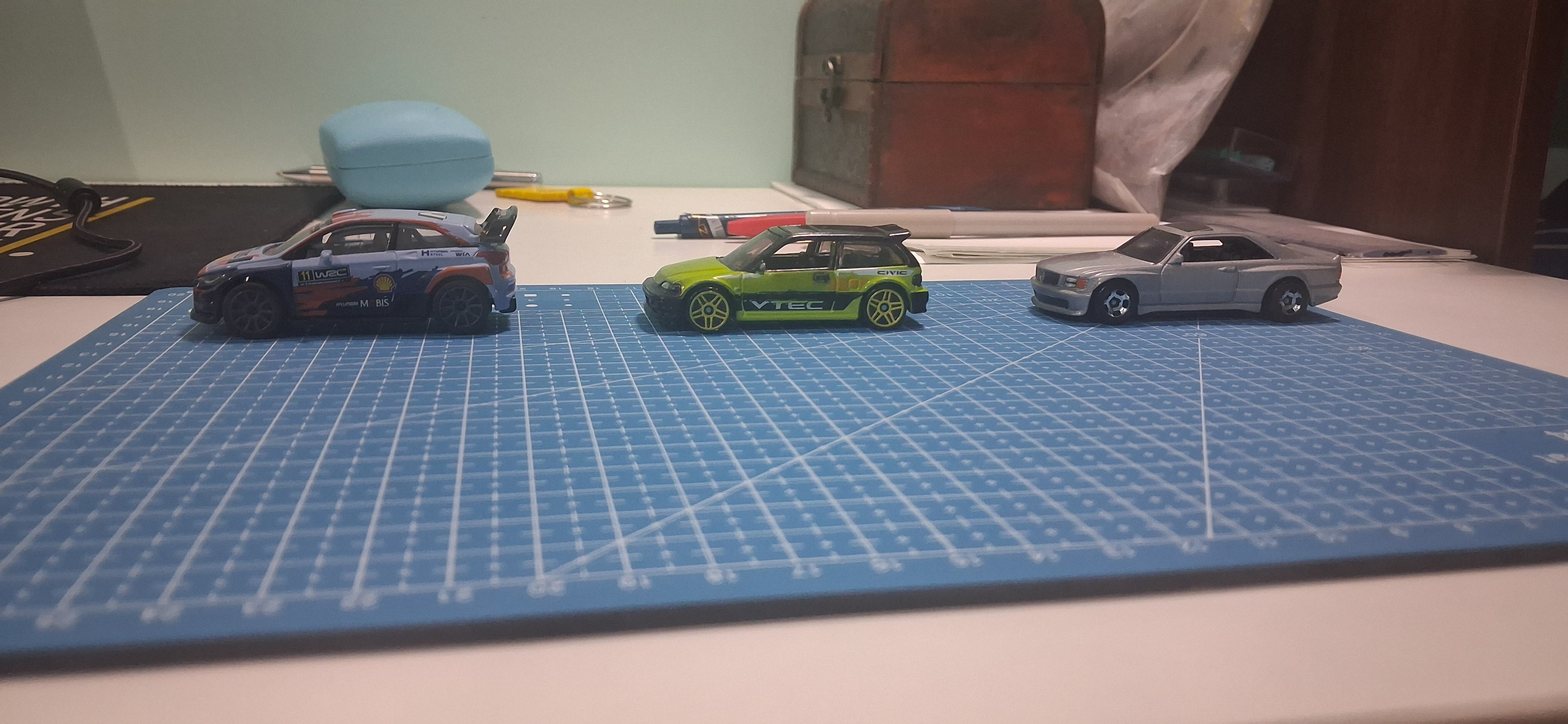Honda_Civic: (613, 211, 936, 357)
Hyundai_I20_WRC: (175, 196, 542, 348)
Mercedes_Benz_560_SEC_AMG: (1015, 220, 1348, 343)
